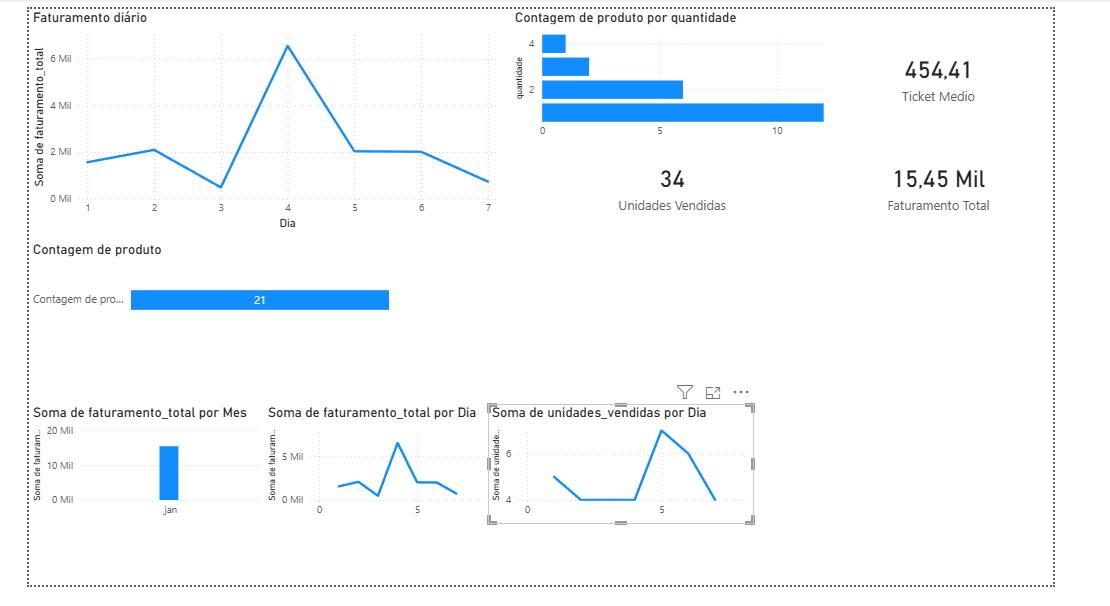

The page's visual inventory and layout, read from the dashboard file:
{"tool":"powerbi","page":{"name":"Página 1","canvas":[1280,720],"ordinal":0},"visuals":[{"type":"lineChart","title":"Faturamento diário","fields":{"Y":["Sum(public vendas_agrupadas_por_dia.faturamento_total)"],"Category":["public vendas_agrupadas_por_dia.data_venda.Variation.Hierarquia de datas.Dia"]},"box":[0,0,588.6,280],"z":0},{"type":"card","fields":{"Values":["public vendas_agrupadas_por_dia.Ticket Medio"]},"box":[1005.7,0,261.4,170],"z":1000},{"type":"clusteredBarChart","fields":{"Y":["CountNonNull(public vendas.produto)"],"Category":["public vendas.quantidade"]},"box":[602.9,0,402.9,170],"z":2000},{"type":"card","fields":{"Values":["public vendas.Faturamento Total"]},"box":[1005.7,170,261.4,101.4],"z":3000},{"type":"card","fields":{"Values":["public vendas.Unidades Vendidas"]},"box":[602.9,158.6,402.9,124.3],"z":4000},{"type":"funnel","fields":{"Y":["CountNonNull(public vendas.produto)"]},"box":[0,290,460,128.6],"z":5000},{"type":"ribbonChart","fields":{"Category":["public vendas_agrupadas_por_dia.Mes"],"Y":["Sum(public vendas_agrupadas_por_dia.faturamento_total)"]},"box":[0,494.3,294.3,150],"z":6000},{"type":"lineChart","fields":{"Category":["public vendas_agrupadas_por_dia.data_venda.Variation.Hierarquia de datas.Dia"],"Y":["Sum(public vendas_agrupadas_por_dia.faturamento_total)"]},"box":[294.3,494.3,280,150],"z":7000},{"type":"lineChart","fields":{"Category":["public vendas_agrupadas_por_dia.data_venda.Variation.Hierarquia de datas.Dia"],"Y":["Sum(public vendas_agrupadas_por_dia.unidades_vendidas)"]},"box":[573.8,493.8,332.5,150],"z":8000}]}

Visuals, with their boxes on the page's 1280x720 design canvas (x1, y1, x2, y2). These are canvas units, not pixel positions in the 1110x606 screenshot, which may show the page scaled, cropped or inside an application window:
"Faturamento diário" lineChart: 0,0,589,280
card - public vendas_agrupadas_por_dia.Ticket Medio: 1006,0,1267,170
clusteredBarChart - CountNonNull(public vendas.produto) x public vendas.quantidade: 603,0,1006,170
card - public vendas.Faturamento Total: 1006,170,1267,271
card - public vendas.Unidades Vendidas: 603,159,1006,283
funnel - CountNonNull(public vendas.produto): 0,290,460,419
ribbonChart - public vendas_agrupadas_por_dia.Mes x Sum(public vendas_agrupadas_por_dia.faturamento_total): 0,494,294,644
lineChart - public vendas_agrupadas_por_dia.data_venda.Variation.Hierarquia de datas.Dia x Sum(public vendas_agrupadas_por_dia.faturamento_total): 294,494,574,644
lineChart - public vendas_agrupadas_por_dia.data_venda.Variation.Hierarquia de datas.Dia x Sum(public vendas_agrupadas_por_dia.unidades_vendidas): 574,494,906,644
